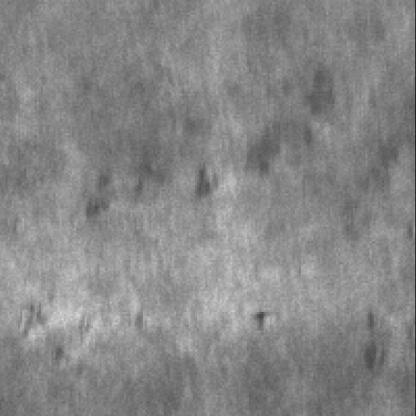rolled-in_scale: (79, 108, 318, 218), (16, 283, 154, 368)
